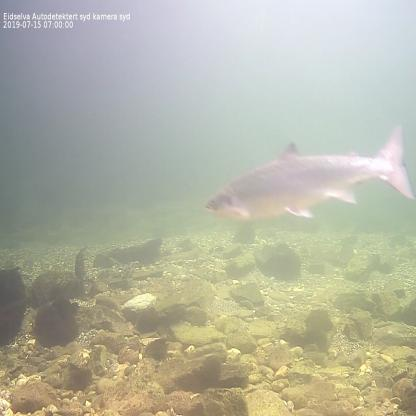salmon: (200, 114, 414, 224)
